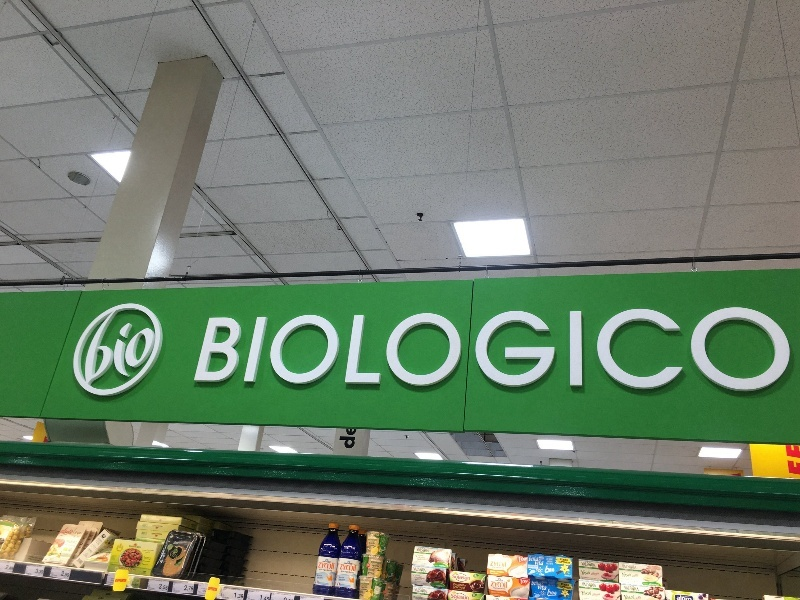text: (209, 306, 224, 396), (225, 306, 240, 396), (241, 306, 256, 396), (257, 306, 272, 396), (273, 306, 288, 396), (289, 306, 304, 396), (305, 306, 320, 396), (321, 306, 336, 396), (337, 306, 352, 396), (353, 306, 368, 396), (369, 306, 384, 396), (385, 306, 400, 396), (401, 306, 416, 396), (417, 306, 432, 396), (433, 306, 448, 396), (449, 306, 464, 396), (465, 306, 480, 396), (481, 306, 496, 396), (497, 306, 512, 396), (513, 306, 528, 396), (529, 306, 544, 396), (545, 306, 560, 396), (561, 306, 576, 396), (577, 306, 592, 396), (593, 306, 608, 396), (609, 306, 624, 396), (625, 306, 640, 396), (641, 306, 656, 396), (657, 306, 672, 396), (673, 306, 688, 396), (689, 306, 704, 396), (705, 306, 720, 396), (721, 306, 736, 396), (737, 306, 752, 396), (753, 306, 768, 396), (769, 306, 784, 396), (785, 306, 800, 396), (97, 309, 112, 387), (113, 309, 128, 387), (129, 309, 144, 387), (145, 309, 156, 387), (89, 309, 96, 387), (340, 429, 352, 450), (353, 429, 361, 450), (497, 561, 506, 576), (65, 527, 80, 536), (321, 563, 335, 571), (546, 566, 560, 574), (561, 583, 576, 590), (453, 583, 464, 592), (340, 564, 352, 572), (548, 589, 560, 597), (490, 561, 496, 576), (530, 556, 544, 562), (625, 586, 639, 592), (497, 581, 507, 589), (451, 594, 464, 600), (533, 580, 544, 587), (452, 575, 464, 581), (36, 568, 48, 574), (6, 564, 16, 571), (561, 558, 571, 565), (417, 588, 428, 594), (581, 570, 592, 576), (259, 595, 272, 600), (518, 557, 528, 563), (417, 549, 432, 553), (582, 562, 592, 568), (582, 582, 592, 588), (625, 565, 637, 570), (338, 577, 352, 581), (161, 583, 168, 591), (417, 567, 426, 573), (535, 561, 544, 567), (582, 591, 592, 596), (116, 579, 128, 583), (209, 586, 217, 592), (625, 595, 634, 600), (677, 596, 688, 600), (185, 585, 192, 591), (538, 585, 544, 592), (491, 581, 496, 589), (520, 580, 528, 585), (235, 592, 240, 600), (625, 572, 632, 577), (465, 575, 470, 581), (65, 571, 70, 577), (322, 561, 336, 563), (81, 527, 84, 536), (171, 553, 176, 558), (465, 594, 469, 600), (353, 564, 356, 572), (344, 563, 352, 566), (241, 592, 244, 600), (593, 582, 597, 588), (545, 585, 548, 592), (413, 567, 416, 573), (593, 562, 596, 568), (318, 563, 320, 571), (317, 575, 320, 580), (321, 575, 324, 580), (62, 571, 64, 577), (689, 596, 692, 600), (622, 565, 624, 570), (622, 572, 624, 577), (465, 583, 466, 592), (63, 527, 64, 536), (159, 583, 160, 591), (559, 558, 560, 565), (415, 588, 416, 594), (193, 585, 194, 591), (177, 553, 178, 558)
